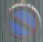No waiting: (7, 4, 40, 39)
